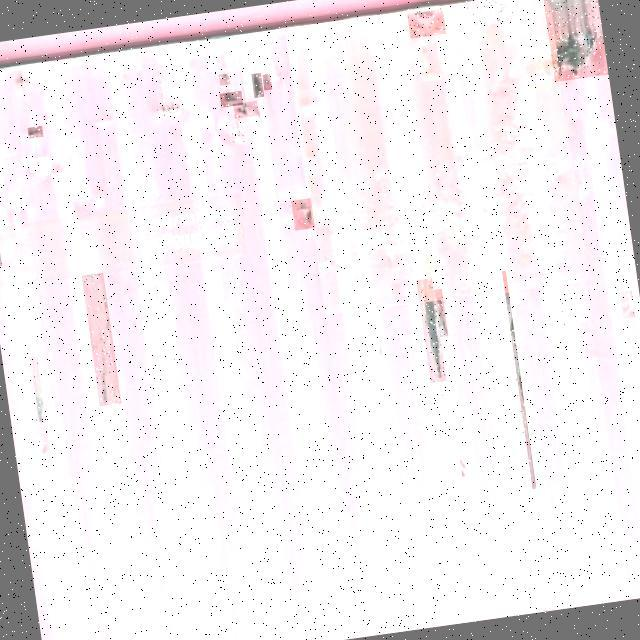Minor-Dent: (465, 0, 518, 27), (407, 8, 446, 39), (618, 290, 636, 319)
Rust: (500, 271, 537, 490), (542, 0, 608, 82), (82, 273, 122, 407), (417, 278, 447, 383), (26, 357, 52, 458), (161, 345, 183, 406), (291, 199, 315, 231), (434, 289, 449, 338), (558, 297, 570, 355), (233, 101, 259, 119), (227, 118, 244, 145), (220, 90, 244, 107), (29, 156, 52, 173), (0, 99, 9, 139), (251, 71, 264, 98), (157, 106, 182, 118), (28, 126, 44, 139), (173, 86, 183, 103), (263, 74, 273, 91), (219, 74, 231, 86), (436, 395, 444, 411), (0, 251, 7, 267)
